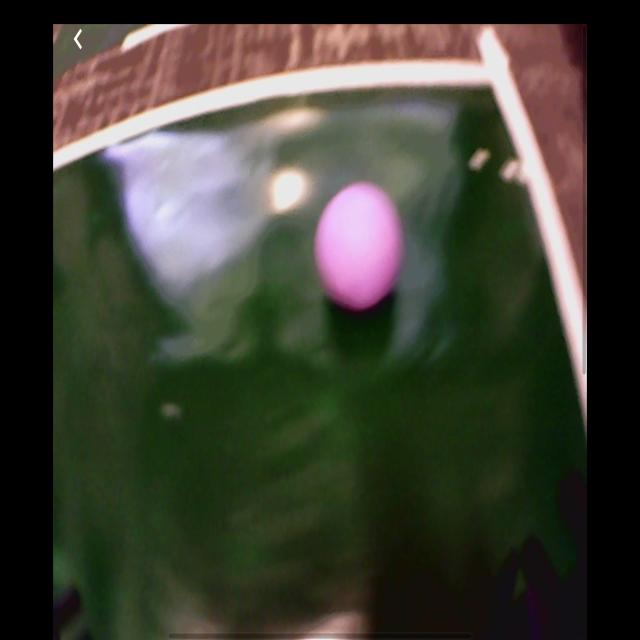ball: (313, 180, 397, 311)
